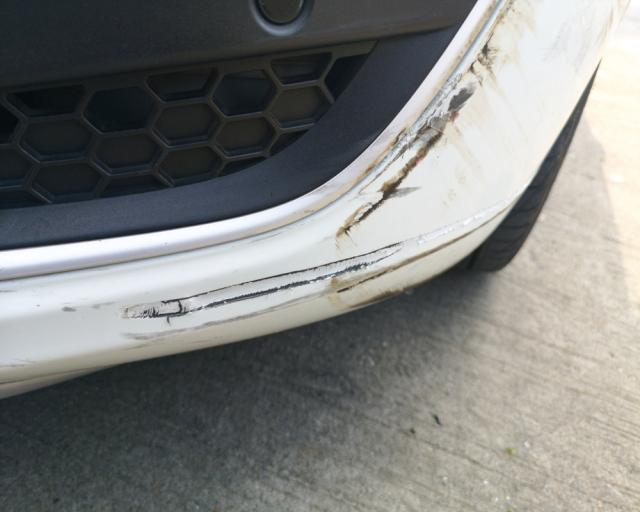scratch: (110, 7, 524, 347)
